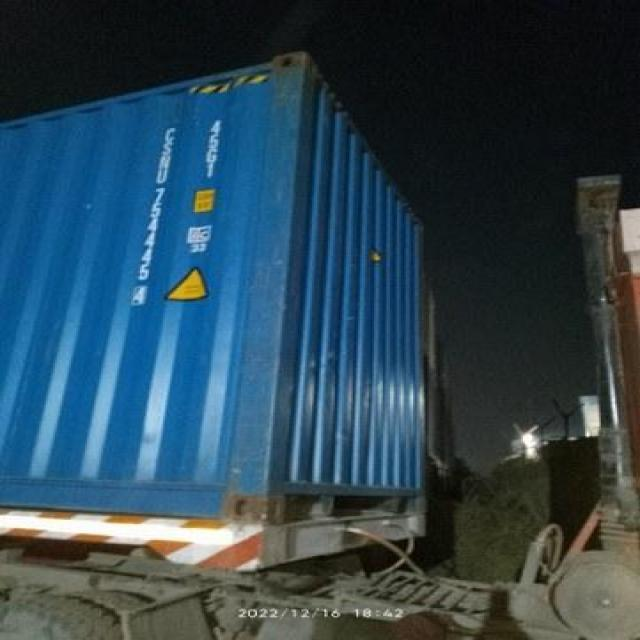ISO: (203, 111, 223, 186)
container_number: (128, 118, 180, 314)
